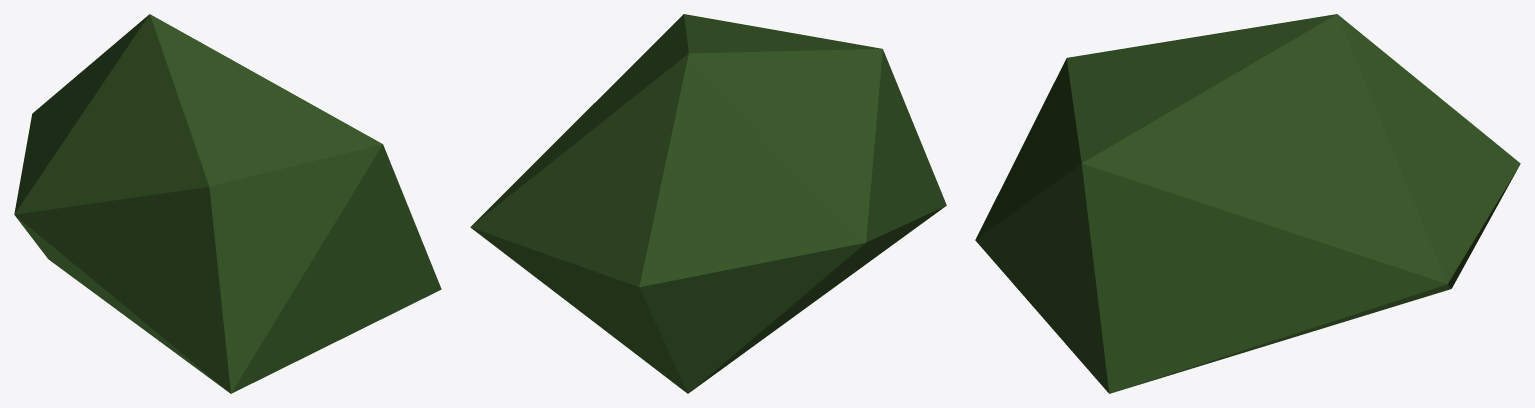
Rendered from SM_bush_03.fbx.
3 views of the same model, side by side, from view 1: azimuth 30°, elevation 25°; view 2: azimuth 150°, elevation 25°; view 3: azimuth 270°, elevation 25° (orthographic). The views are drawn at different scales.
Visible parts, largest first — view 1: Object132; view 2: Object132; view 3: Object132.
Part boxes in pixels (<box>): Object132: <box>14,14,441,393</box>; Object132: <box>470,14,946,393</box>; Object132: <box>975,14,1520,393</box>.
Bounding box in the file's own units: 36.31 × 27.52 × 44.99.
